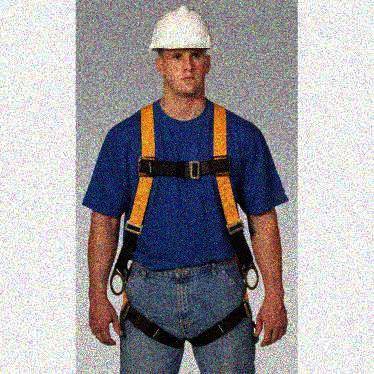helmet: (148, 4, 217, 99)
